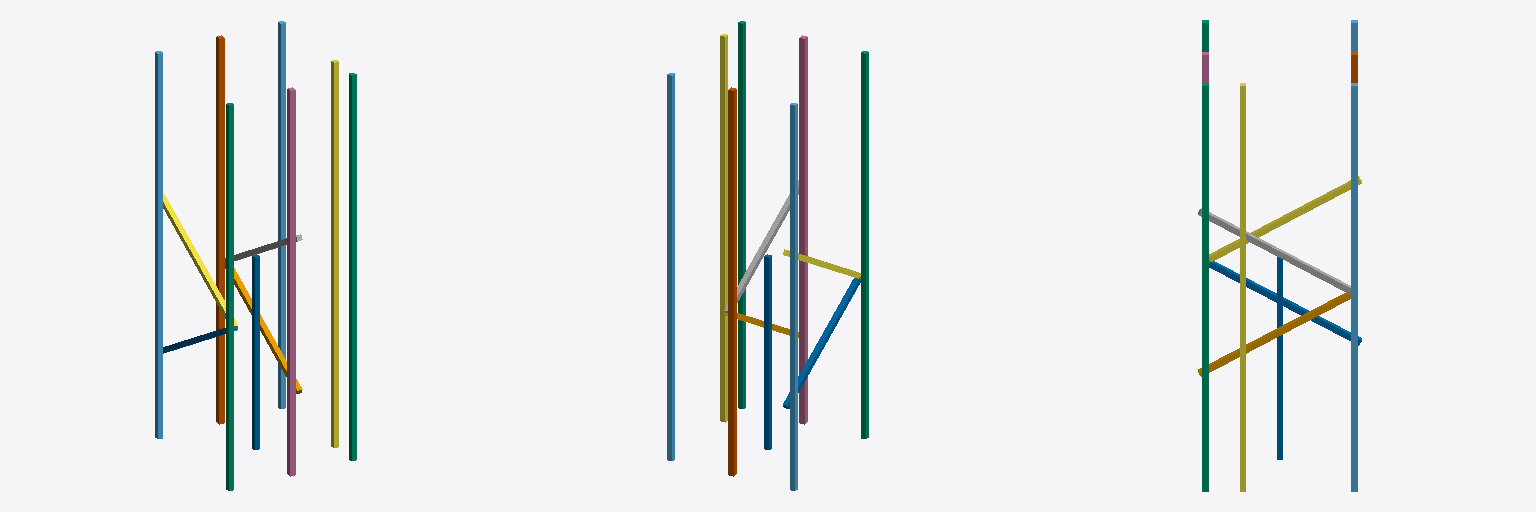
robot.urdf — pipes:
<robot name="pipes">
   <material name="Brown">
     <color rgba="83./255. 53./255. 10./255."/>
   </material>
   <material name="White">
     <color rgba="1 1 1"/>
   </material>
   <material name="Grey">
     <color rgba=".3 .3 .3"/>
   </material>
   <material name="Red">
     <color rgba="1 0 0"/>
   </material>
   <link name="world"/>

   <link name="l1">
   	<inertial>
   		<mass value=".5" />
   		<origin xyz="0 0 1.5" rpy="0 0 0"/>
		  <inertia ixx="10"  ixy="0"  ixz="0" iyy="10" iyz="0" izz="1" />
   	</inertial>
  	<visual>
      <origin xyz="0 0 1.5" rpy="0 0 0" />
      <geometry>
        <box size="0.042 0.042 3"/>
      </geometry>
      <material name="White"/>
    </visual>
    <collision>
      <origin xyz="0 0 1.5" rpy="0 0 0" />
      <geometry>
        <box size="0.042 0.042 3"/>
      </geometry>
    </collision>
   </link>
   <joint name="l1_weld" type="fixed">
    <parent link="world"/>
      <child link="l1"/>
    <origin xyz="-.5 .5 0" rpy="0 0 0" />
   </joint>
   <link name="l2">
   	<inertial>
   		<mass value=".5" />
   		<origin xyz="0 0 1.5" rpy="0 0 0"/>
		  <inertia ixx="10"  ixy="0"  ixz="0" iyy="10" iyz="0" izz="1" />
   	</inertial>
  	<visual>
      <origin xyz="0 0 1.5" rpy="0 0 0" />
      <geometry>
        <box size="0.042 0.042 3"/>
      </geometry>
      <material name="White"/>
    </visual>
    <collision>
      <origin xyz="0 0 1.5" rpy="0 0 0" />
      <geometry>
        <box size="0.042 0.042 3"/>
      </geometry>
    </collision>
   </link>
   <joint name="l2_weld" type="fixed">
    <parent link="world"/>
      <child link="l2"/>
    <origin xyz="-.5 -.5 0" rpy="0 0 0" />
   </joint>
   <link name="s1">
   	<inertial>
   		<mass value=".5" />
   		<origin xyz="0 0 .6" rpy="0 0 0"/>
		  <inertia ixx="5"  ixy="0"  ixz="0" iyy="5" iyz="0" izz="1" />
   	</inertial>
  	<visual>
      <origin xyz="0 0 0.6" rpy="0 0 0" />
      <geometry>
        <box size="0.042 0.042 1.2"/>
      </geometry>
      <material name="White"/>
    </visual>
    <collision>
      <origin xyz="0 0 0.6" rpy="0 0 0" />
      <geometry>
        <box size="0.042 0.042 1.2"/>
      </geometry>
    </collision>
   </link>
   <joint name="s1_weld" type="fixed">
    <parent link="l2"/>
      <child link="s1"/>
    <origin xyz="0.042 0 1.25" rpy="-1.047197551196598 0 0" />
   </joint>
   <link name="s2">
   	<inertial>
   		<mass value=".5" />
   		<origin xyz="0 0 .6" rpy="0 0 0"/>
		  <inertia ixx="5"  ixy="0"  ixz="0" iyy="5" iyz="0" izz="1" />
   	</inertial>
  	<visual>
      <origin xyz="0 0 0.6" rpy="0 0 0" />
      <geometry>
        <box size="0.042 0.042 1.2"/>
      </geometry>
      <material name="White"/>
    </visual>
    <collision>
      <origin xyz="0 0 0.6" rpy="0 0 0" />
      <geometry>
        <box size="0.042 0.042 1.2"/>
      </geometry>
    </collision>
   </link>
   <joint name="s2_weld" type="fixed">
    <parent link="l2"/>
      <child link="s2"/>
    <origin xyz="0.042 0 1.25" rpy="-2.094395102393196 0 0" />
   </joint>

   <link name="l3">
   	<inertial>
   		<mass value=".5" />
   		<origin xyz="0 0 1.5" rpy="0 0 0"/>
		  <inertia ixx="10"  ixy="0"  ixz="0" iyy="10" iyz="0" izz="1" />
   	</inertial>
  	<visual>
      <origin xyz="0 0 1.5" rpy="0 0 0" />
      <geometry>
        <box size="0.042 0.042 3"/>
      </geometry>
      <material name="White"/>
    </visual>
    <collision>
      <origin xyz="0 0 1.5" rpy="0 0 0" />
      <geometry>
        <box size="0.042 0.042 3"/>
      </geometry>
    </collision>
   </link>
   <joint name="l3_weld" type="fixed">
    <parent link="world"/>
      <child link="l3"/>
    <origin xyz="0 .5 0" rpy="0 0 0" />
   </joint>
   <link name="l4">
   	<inertial>
   		<mass value=".5" />
   		<origin xyz="0 0 1.5" rpy="0 0 0"/>
		  <inertia ixx="10"  ixy="0"  ixz="0" iyy="10" iyz="0" izz="1" />
   	</inertial>
  	<visual>
      <origin xyz="0 0 1.5" rpy="0 0 0" />
      <geometry>
        <box size="0.042 0.042 3"/>
      </geometry>
      <material name="White"/>
    </visual>
    <collision>
      <origin xyz="0 0 1.5" rpy="0 0 0" />
      <geometry>
        <box size="0.042 0.042 3"/>
      </geometry>
    </collision>
   </link>
   <joint name="l4_weld" type="fixed">
    <parent link="world"/>
      <child link="l4"/>
    <origin xyz="0 -.5 0" rpy="0 0 0" />
   </joint>
  <link name="s3">
   	<inertial>
   		<mass value=".5" />
   		<origin xyz="0 0 .6" rpy="0 0 0"/>
		  <inertia ixx="5"  ixy="0"  ixz="0" iyy="5" iyz="0" izz="1" />
   	</inertial>
  	<visual>
      <origin xyz="0 0 0.6" rpy="0 0 0" />
      <geometry>
        <box size="0.042 0.042 1.2"/>
      </geometry>
      <material name="White"/>
    </visual>
    <collision>
      <origin xyz="0 0 0.6" rpy="0 0 0" />
      <geometry>
        <box size="0.042 0.042 1.2"/>
      </geometry>
    </collision>
   </link>
   <joint name="s3_weld" type="fixed">
    <parent link="l3"/>
      <child link="s3"/>
    <origin xyz="0.042 0 1.25" rpy="1.047197551196598 0 0" />
   </joint>
  <link name="s4">
   	<inertial>
   		<mass value=".5" />
   		<origin xyz="0 0 .6" rpy="0 0 0"/>
		  <inertia ixx="5"  ixy="0"  ixz="0" iyy="5" iyz="0" izz="1" />
   	</inertial>
  	<visual>
      <origin xyz="0 0 0.6" rpy="0 0 0" />
      <geometry>
        <box size="0.042 0.042 1.2"/>
      </geometry>
      <material name="White"/>
    </visual>
    <collision>
      <origin xyz="0 0 0.6" rpy="0 0 0" />
      <geometry>
        <box size="0.042 0.042 1.2"/>
      </geometry>
    </collision>
   </link>
   <joint name="s4_weld" type="fixed">
    <parent link="l3"/>
      <child link="s4"/>
    <origin xyz="0.042 0 1.25" rpy="2.094395102393196 0 0" />
   </joint>

   <link name="l5">
   	<inertial>
   		<mass value=".5" />
   		<origin xyz="0 0 1.5" rpy="0 0 0"/>
		  <inertia ixx="10"  ixy="0"  ixz="0" iyy="10" iyz="0" izz="1" />
   	</inertial>
  	<visual>
      <origin xyz="0 0 1.5" rpy="0 0 0" />
      <geometry>
        <box size="0.042 0.042 3"/>
      </geometry>
      <material name="White"/>
    </visual>
    <collision>
      <origin xyz="0 0 1.5" rpy="0 0 0" />
      <geometry>
        <box size="0.042 0.042 3"/>
      </geometry>
    </collision>
   </link>
   <joint name="l5_weld" type="fixed">
    <parent link="world"/>
      <child link="l5"/>
    <origin xyz=".5 .5 0" rpy="0 0 0" />
   </joint>
   <link name="l6">
   	<inertial>
   		<mass value=".5" />
   		<origin xyz="0 0 1.5" rpy="0 0 0"/>
		  <inertia ixx="10"  ixy="0"  ixz="0" iyy="10" iyz="0" izz="1" />
   	</inertial>
  	<visual>
      <origin xyz="0 0 1.5" rpy="0 0 0" />
      <geometry>
        <box size="0.042 0.042 3"/>
      </geometry>
      <material name="White"/>
    </visual>
    <collision>
      <origin xyz="0 0 1.5" rpy="0 0 0" />
      <geometry>
        <box size="0.042 0.042 3"/>
      </geometry>
    </collision>
   </link>
   <joint name="l6_weld" type="fixed">
    <parent link="world"/>
      <child link="l6"/>
    <origin xyz=".5 -.5 0" rpy="0 0 0" />
   </joint>
  <link name="l7">
   	<inertial>
   		<mass value=".5" />
   		<origin xyz="0 0 1.5" rpy="0 0 0"/>
		  <inertia ixx="10"  ixy="0"  ixz="0" iyy="10" iyz="0" izz="1" />
   	</inertial>
  	<visual>
      <origin xyz="0 0 1.5" rpy="0 0 0" />
      <geometry>
        <box size="0.042 0.042 3"/>
      </geometry>
      <material name="White"/>
    </visual>
    <collision>
      <origin xyz="0 0 1.5" rpy="0 0 0" />
      <geometry>
        <box size="0.042 0.042 3"/>
      </geometry>
    </collision>
   </link>
   <joint name="l7_weld" type="fixed">
    <parent link="world"/>
      <child link="l7"/>
    <origin xyz=".5 -.25 0" rpy="0 0 0" />
   </joint>

   <link name="m1">
   	<inertial>
   		<mass value=".5" />
   		<origin xyz="0 0 .75" rpy="0 0 0"/>
		  <inertia ixx="10"  ixy="0"  ixz="0" iyy="10" iyz="0" izz="1" />
   	</inertial>
  	<visual>
      <origin xyz="0 0 .75" rpy="0 0 0" />
      <geometry>
        <box size="0.042 0.042 1.5"/>
      </geometry>
      <material name="White"/>
    </visual>
    <collision>
      <origin xyz="0 0 .75" rpy="0 0 0" />
      <geometry>
        <box size="0.042 0.042 1.5"/>
      </geometry>
    </collision>
   </link>
   <joint name="m1_weld" type="fixed">
    <parent link="world"/>
      <child link="m1"/>
    <origin xyz="0 0 0" rpy="0 0 0" />
   </joint>

</robot>

--- Render facts (derived) ---
3 views of the same robot in one strip: view 1: azimuth 30°, elevation 25°; view 2: azimuth 150°, elevation 25°; view 3: azimuth 270°, elevation 25° (orthographic).
Model pipes with 13 links and 12 joints (12 fixed), rooted at world, posed every joint at zero.
Links seen in each view (by area): view 1: l4, l3, l1, l6, l2, l7, l5, m1, s1, s4; view 2: l3, l4, l2, l5, l1, l7, l6, m1, s2, s3; view 3: l5, l6, l7, s3, s4, s1, m1, s2.
Link boxes in pixels (x1,y1,x2,y2): l4: (287,87,295,476); l3: (216,35,224,424); l1: (155,51,162,438); l6: (349,73,356,460); l2: (226,103,233,490); l7: (331,60,338,447); l5: (278,21,285,408); m1: (252,254,259,449); s1: (163,194,237,327); s4: (225,263,302,393); l3: (728,87,736,476); l4: (799,35,807,424); l2: (861,51,868,438); l5: (667,73,674,460); l1: (790,103,797,490); l7: (720,34,727,422); l6: (738,21,745,408); m1: (764,254,771,449); s2: (783,277,860,408); s3: (724,180,798,312); l5: (1351,83,1357,491); l6: (1202,83,1208,491); l7: (1240,83,1245,491); s3: (1198,208,1350,294); s4: (1198,293,1350,376); s1: (1209,176,1361,262); m1: (1277,257,1282,459); s2: (1209,261,1361,345).
Bounding box of the posed robot: 1.04 × 1.1 × 3 m (x, y, z).
Geometry: primitives only (box / cylinder / sphere), no mesh files.